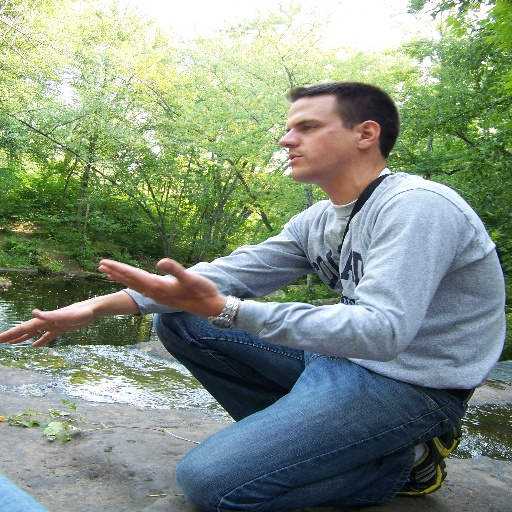hand: (78, 257, 249, 316), (0, 300, 96, 348)
